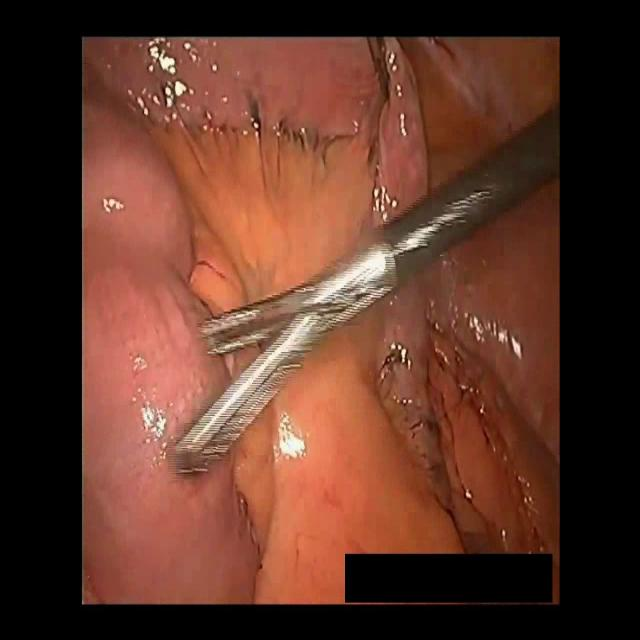surgical-area: (80, 31, 558, 606)
surgical-tool: (167, 103, 556, 477)
